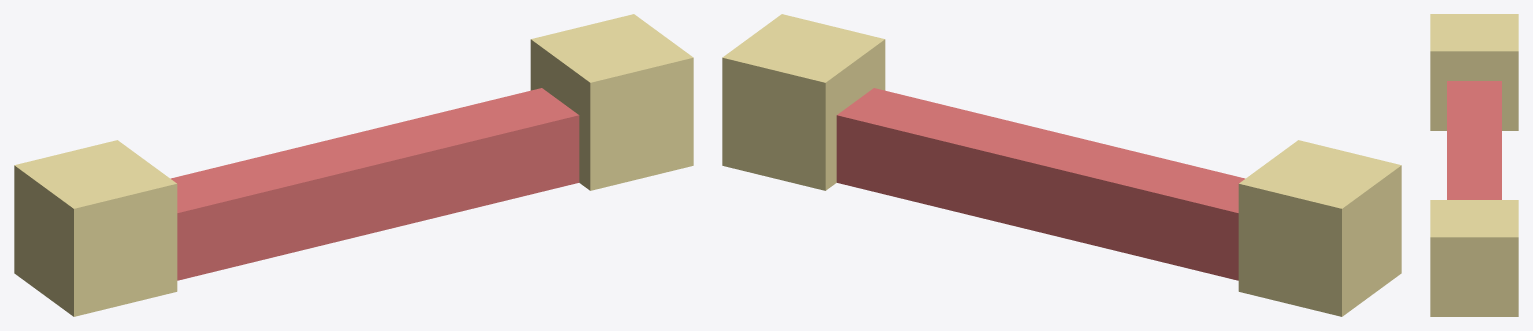
File: Prop_Pet_AMF_ToyRope_V2.glb
3 views of the same model, side by side, from view 1: azimuth 30°, elevation 25°; view 2: azimuth 150°, elevation 25°; view 3: azimuth 270°, elevation 25° (orthographic). The views are drawn at different scales.
Visible parts, largest first — view 1: Prop_Pet_AMF_ToyRope_V2; view 2: Prop_Pet_AMF_ToyRope_V2; view 3: Prop_Pet_AMF_ToyRope_V2.
Boxes of the visible parts, x1,y1,x2,y2 form: Prop_Pet_AMF_ToyRope_V2: [14, 14, 693, 316]; Prop_Pet_AMF_ToyRope_V2: [722, 14, 1401, 316]; Prop_Pet_AMF_ToyRope_V2: [1430, 14, 1518, 316].
Bounding box in the file's own units: 0.48 × 0.08 × 0.08.
